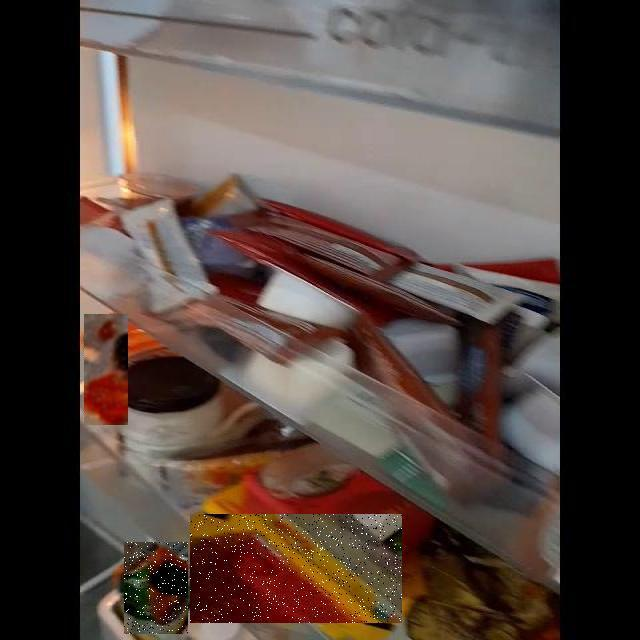Butter: (191, 514, 403, 623)
Juice: (124, 542, 188, 634)
Sauce: (84, 314, 128, 425)
